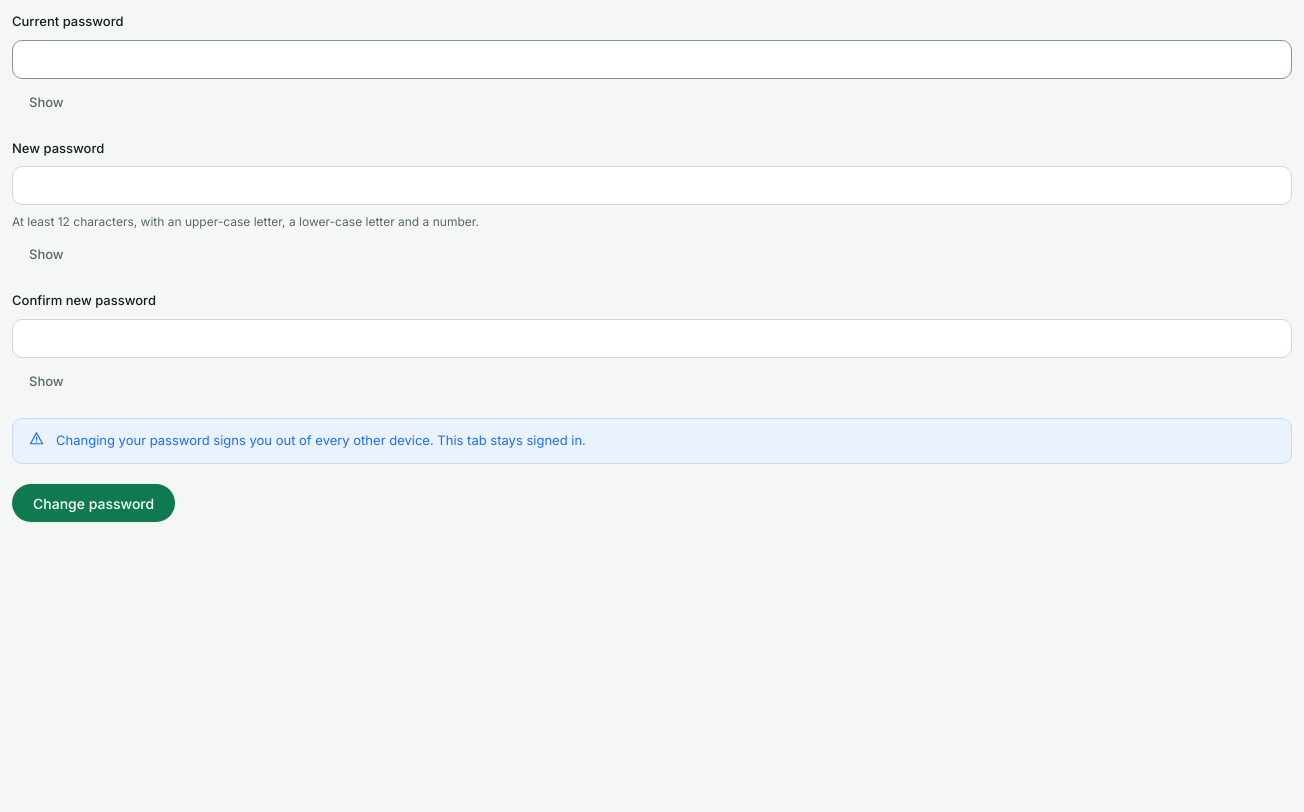
Test case: ChangePasswordForm › names the field the API rejected
Type "WrongPassword1!" into the password field labelled "Current password" at [652, 59], box top-left (12, 40), bottom-right (1292, 78)
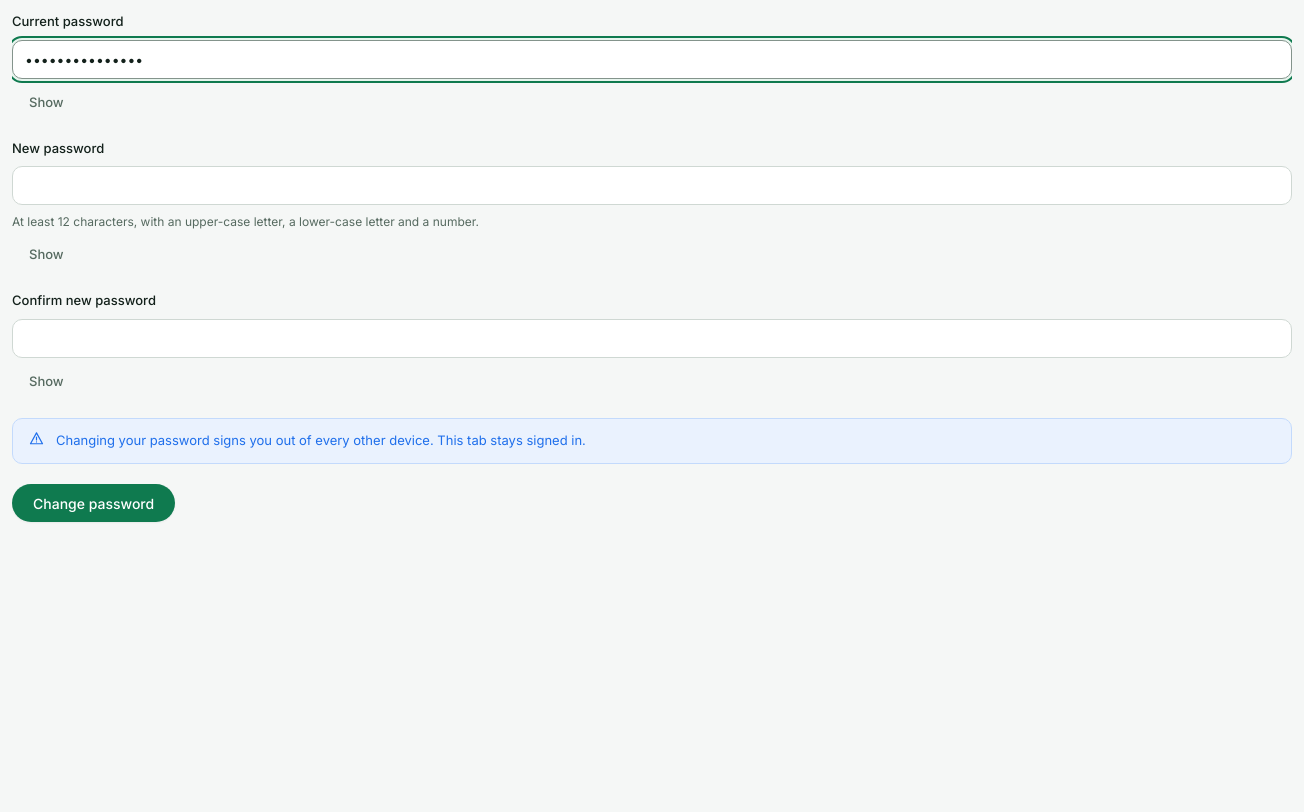
Type "NewPassword456!" into the password field labelled "New password" at [652, 186], box top-left (12, 166), bottom-right (1292, 205)
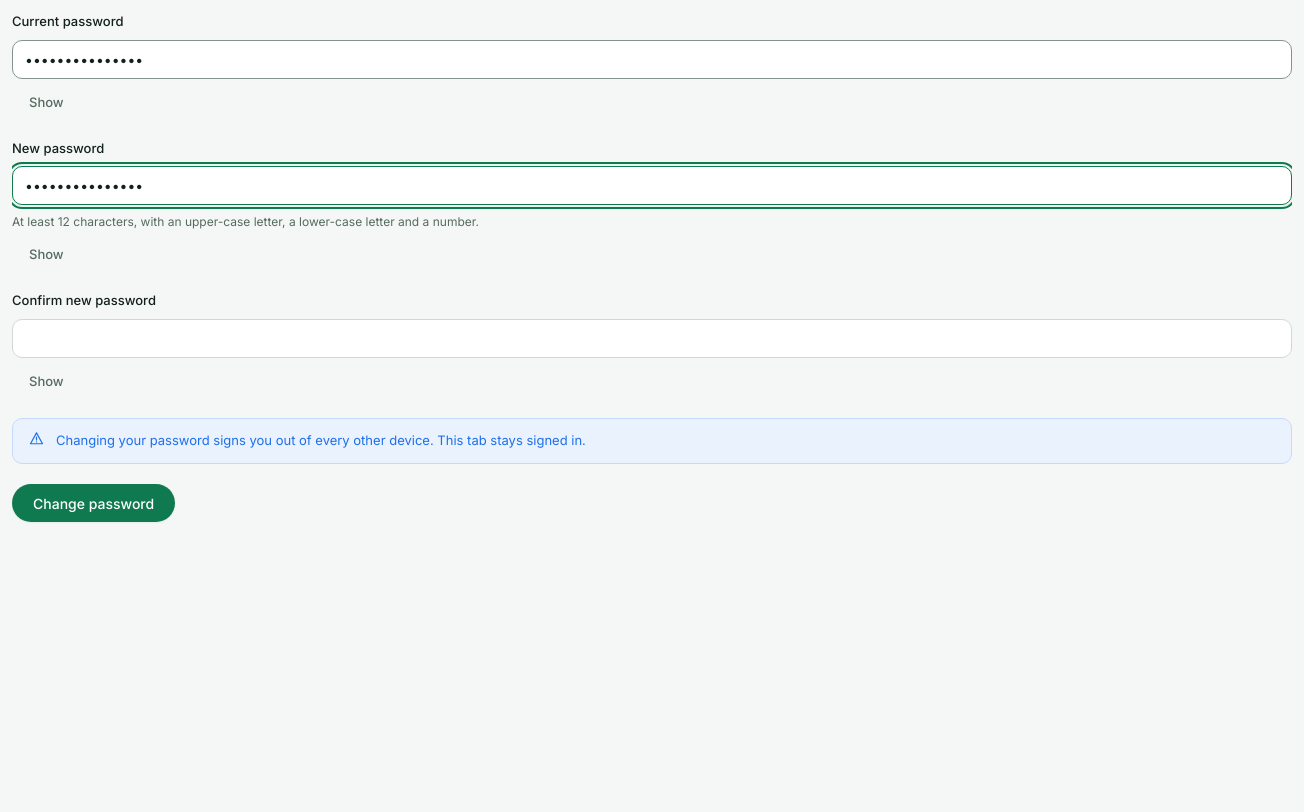
Type "NewPassword456!" into the password field labelled "Confirm new password" at [652, 338], box top-left (12, 318), bottom-right (1292, 358)
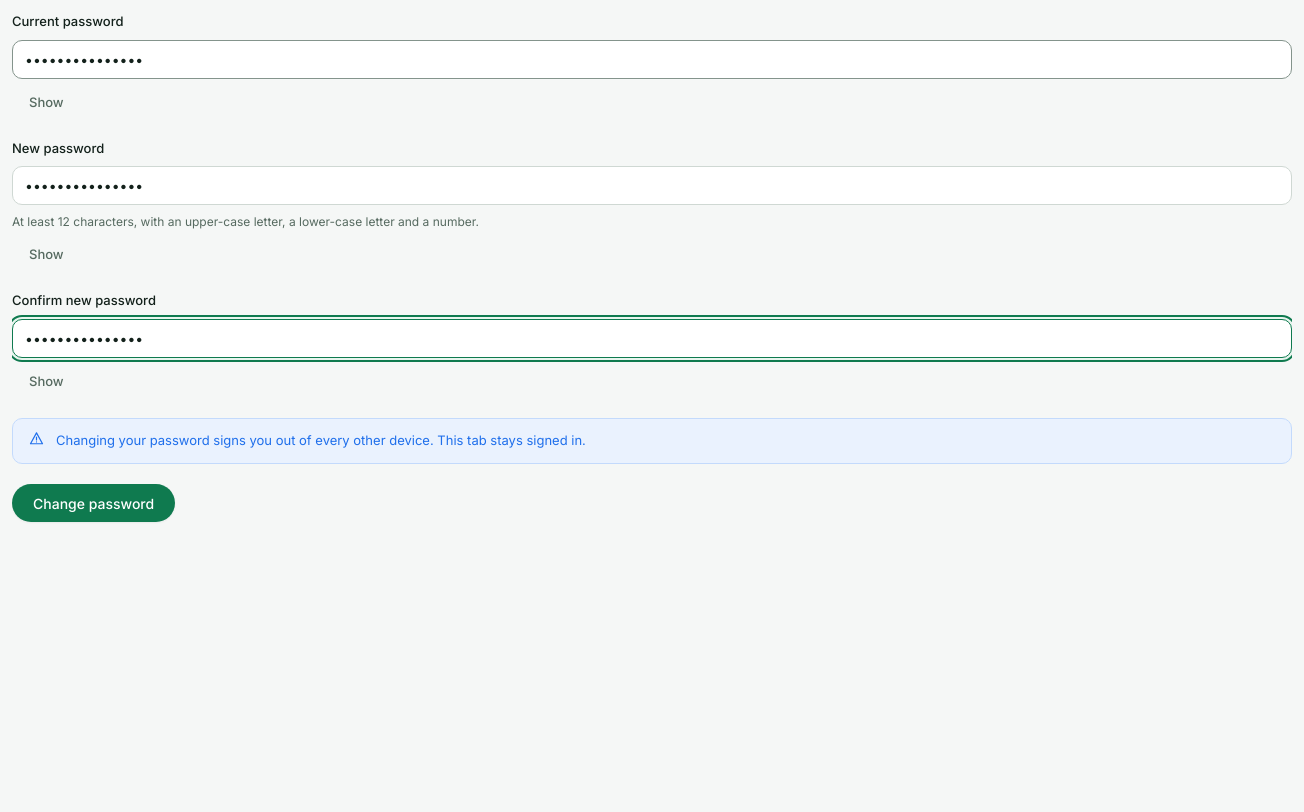
Click the button "Change password" at [94, 503], box top-left (12, 484), bottom-right (175, 522)
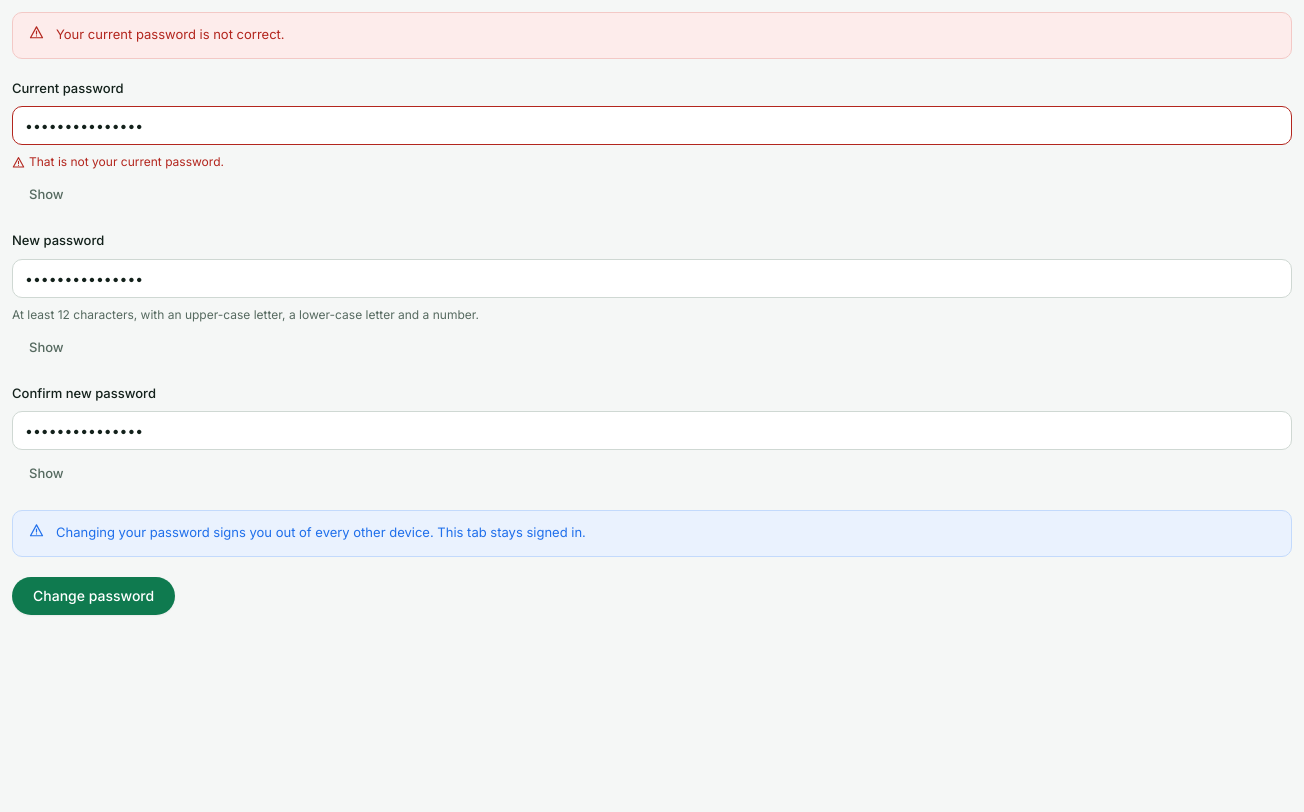
Now the text "That is not your current password." is shown, box top-left (12, 154), bottom-right (224, 169)
